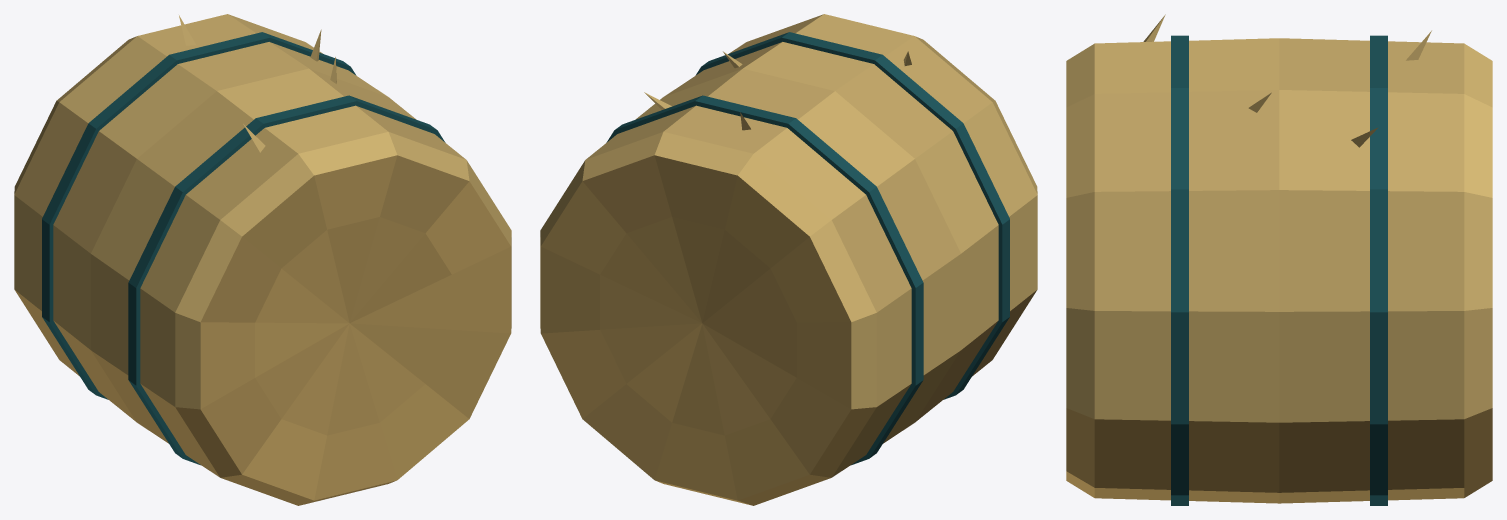
The model's file is hay_bale_round.glb.
The picture shows the model from 3 angles, left to right: view 1: azimuth 30°, elevation 25°; view 2: azimuth 150°, elevation 25°; view 3: azimuth 270°, elevation 25°; orthographic projection. The views are drawn at different scales.
Parts seen in each view (by area): view 1: hay_bale_round; view 2: hay_bale_round; view 3: hay_bale_round.
Boxes of the visible parts, x1,y1,x2,y2 form: hay_bale_round: (14,14,511,505); hay_bale_round: (540,14,1037,505); hay_bale_round: (1066,14,1492,505).
Size of the model in its own units: 1.3 by 1.37 by 1.2.
